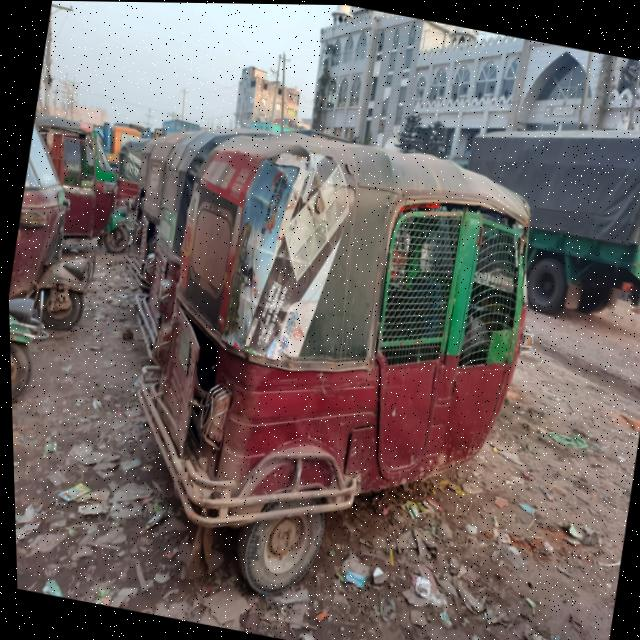cng: (127, 103, 558, 631)
